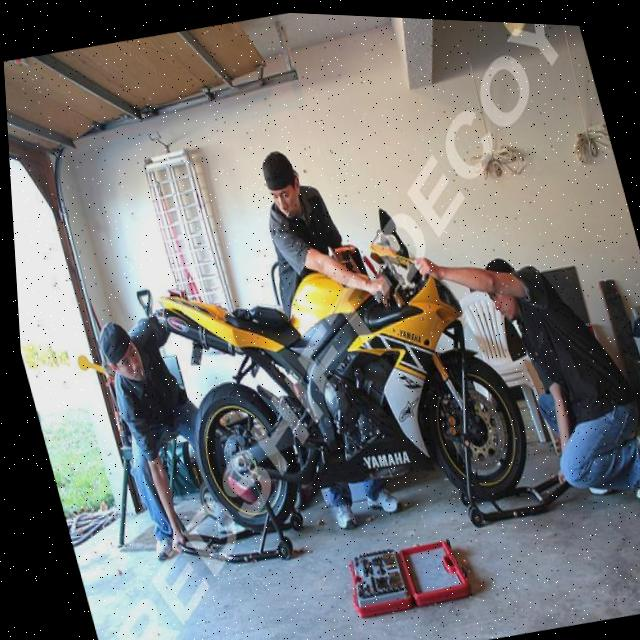motorcycle: (132, 207, 549, 566)
